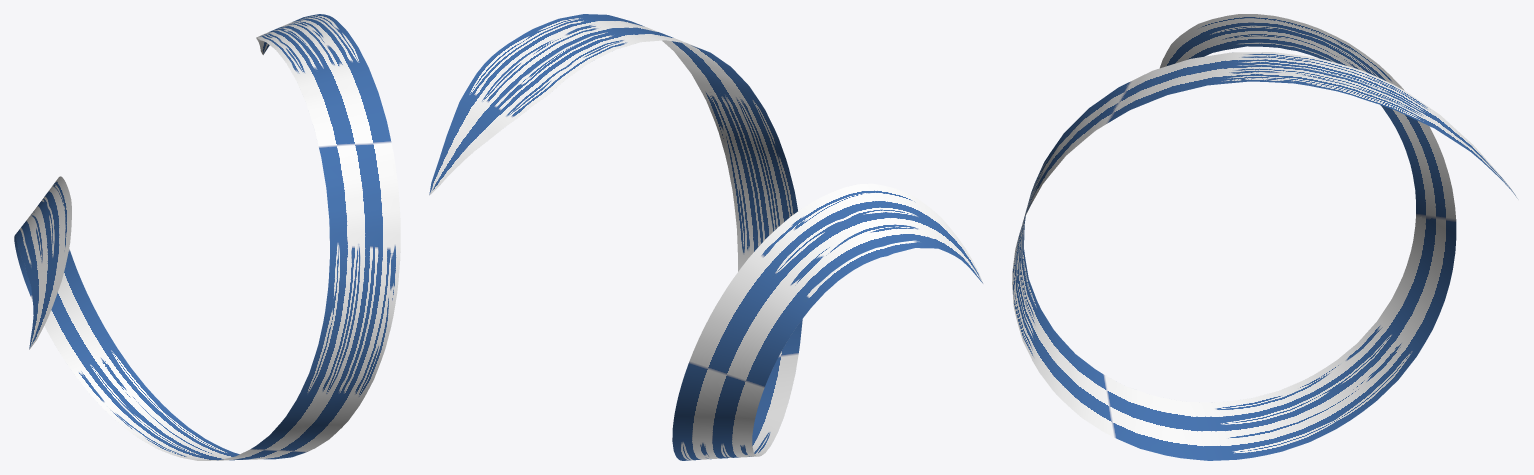
File: Rui_Wind2.fbx
3 views of the same model, side by side, from view 1: azimuth 30°, elevation 25°; view 2: azimuth 150°, elevation 25°; view 3: azimuth 270°, elevation 25° (orthographic). The views are drawn at different scales.
Visible parts, largest first — view 1: SM_e_DLC_Plc_P1007_Wind003; view 2: SM_e_DLC_Plc_P1007_Wind003; view 3: SM_e_DLC_Plc_P1007_Wind003.
Part boxes in pixels (box(x1,y1,x2,y2)): SM_e_DLC_Plc_P1007_Wind003: box(14, 14, 400, 460); SM_e_DLC_Plc_P1007_Wind003: box(429, 14, 983, 460); SM_e_DLC_Plc_P1007_Wind003: box(1012, 14, 1518, 460).
Bounding box in the file's own units: 278 × 256 × 256.
1 material, 1 textured.
